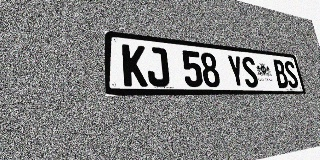5: (181, 50, 204, 87)
8: (199, 52, 221, 87)
B: (272, 59, 289, 88)
J: (146, 46, 170, 87)
K: (122, 44, 148, 86)
S: (240, 56, 259, 88), (283, 60, 300, 88)
Y: (226, 55, 246, 87)
